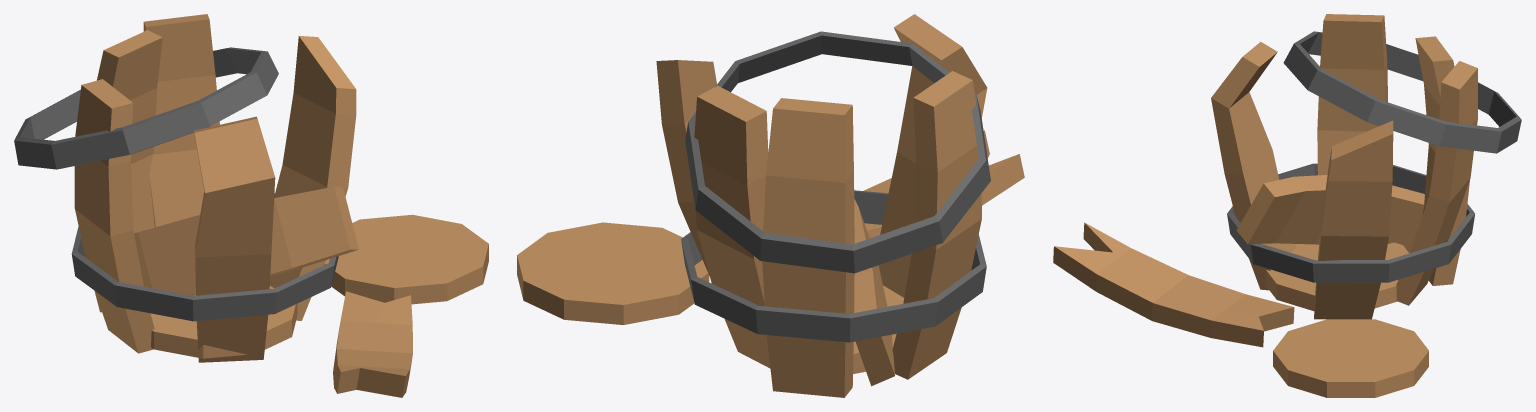
File: Barril1.fbx
3 renders of one model, left to right at view 1: azimuth 30°, elevation 25°; view 2: azimuth 150°, elevation 25°; view 3: azimuth 270°, elevation 25°, orthographic. The views are drawn at different scales.
Parts seen in each view (by area): view 1: barrel.025; view 2: barrel.025; view 3: barrel.025.
Part boxes in pixels (box(x1,y1,x2,y2)): barrel.025: box(14, 14, 488, 397); barrel.025: box(517, 14, 1024, 397); barrel.025: box(1053, 14, 1521, 397).
Bounding box in the file's own units: 542 × 327 × 595.
